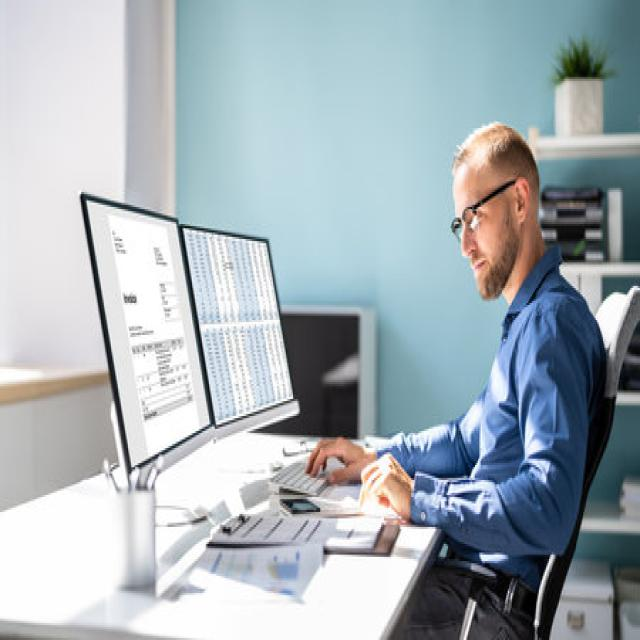desktop-person: (72, 103, 615, 640)
